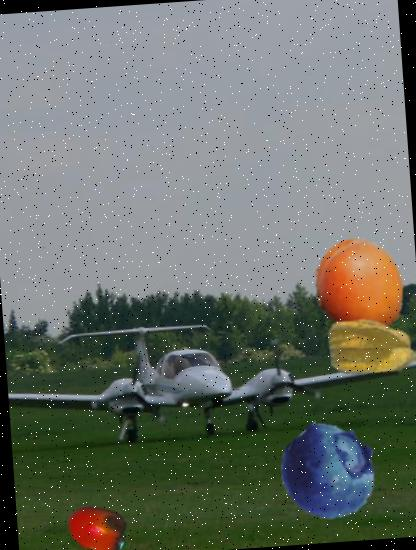Apricot: (304, 233, 412, 341)
Banana: (313, 252, 374, 314)
Huckleberry: (279, 421, 380, 522)
Kaki: (65, 496, 129, 550)
Physalis: (324, 297, 416, 393)
